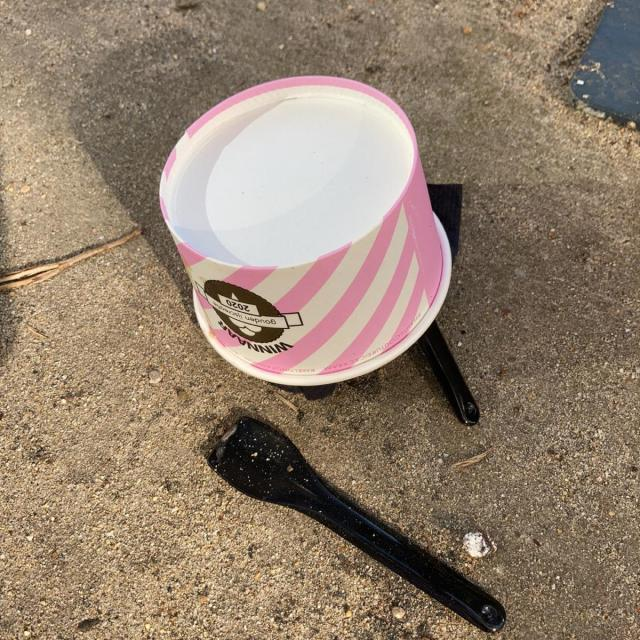Paper: (153, 72, 456, 390)
